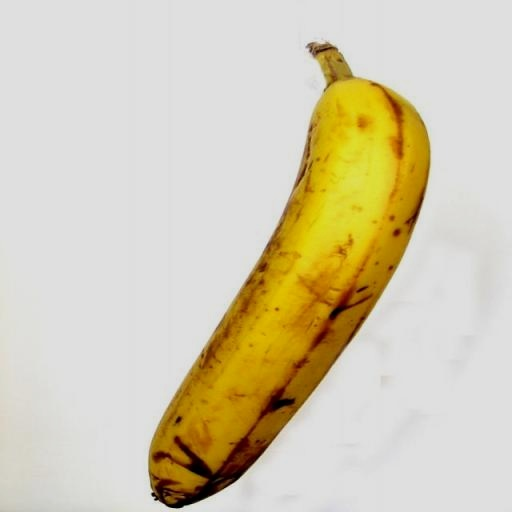fruit: (69, 242, 236, 512)
